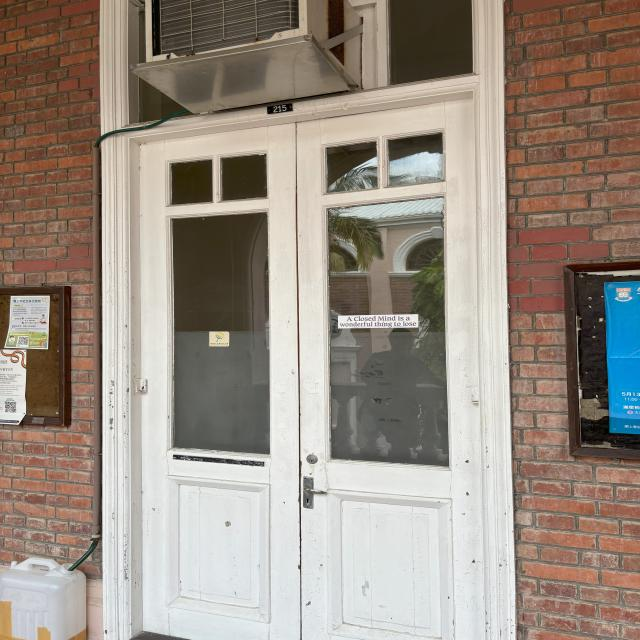MB215_roomNumber: (261, 101, 298, 117)
